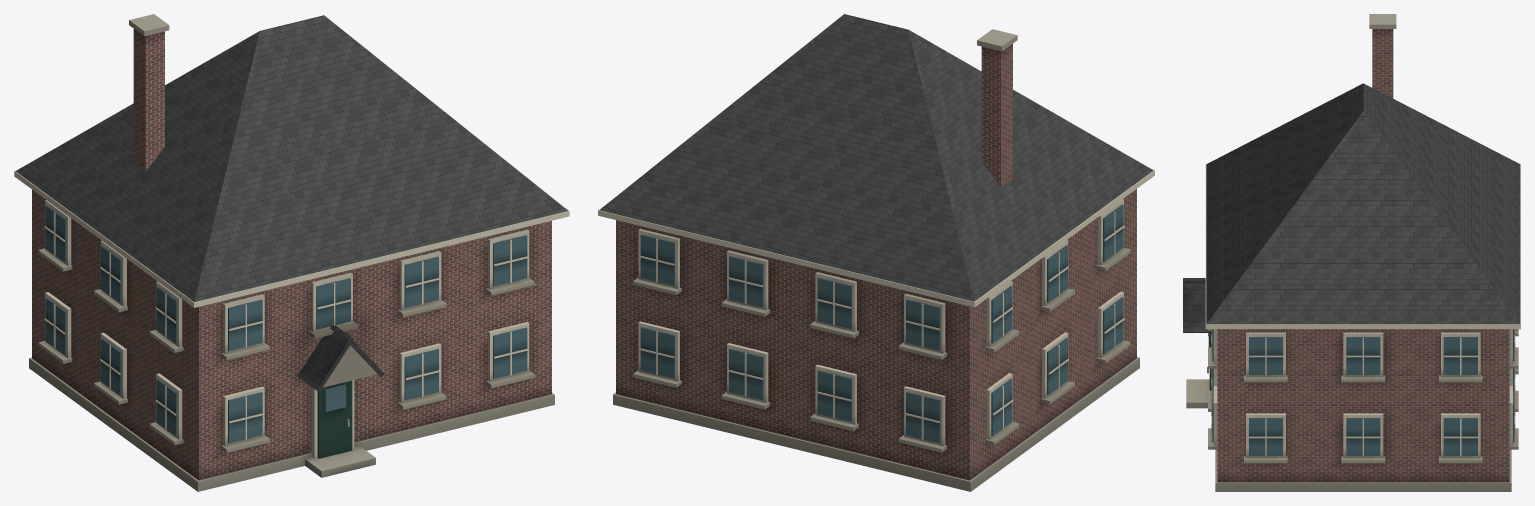
File: house-garden.glb
3 renders of one model, left to right at view 1: azimuth 30°, elevation 25°; view 2: azimuth 150°, elevation 25°; view 3: azimuth 270°, elevation 25°, orthographic. The views are drawn at different scales.
Visible parts, largest first — view 1: Closed hip roof, Masonry shell, Opaque glazing (×13), Foundation, Window surround (×7), Chimney, Eaves, Front door, Gable roof, Entry step, Entrance gable, Door surround (+1 smaller); view 2: Closed hip roof, Masonry shell, Opaque glazing (×14), Foundation, Window surround (×8), Chimney, Eaves, Chimney cap; view 3: Closed hip roof, Masonry shell, Opaque glazing (×6), Window surround (×6), Foundation, Eaves, Chimney, Gable roof, Entry step, Chimney cap.
Boxes of the visible parts, left/top/right/bottom form: Closed hip roof: left=15, top=15, right=568, bottom=302; Masonry shell: left=32, top=189, right=551, bottom=480; Opaque glazing (×13): left=45, top=205, right=527, bottom=443; Foundation: left=29, top=357, right=554, bottom=491; Window surround (×7): left=223, top=229, right=529, bottom=446; Chimney: left=133, top=29, right=164, bottom=171; Eaves: left=14, top=171, right=569, bottom=307; Front door: left=317, top=380, right=352, bottom=458; Gable roof: left=297, top=325, right=353, bottom=392; Entry step: left=305, top=446, right=375, bottom=477; Entrance gable: left=323, top=345, right=377, bottom=387; Door surround: left=311, top=380, right=354, bottom=458; Closed hip roof: left=599, top=14, right=1153, bottom=301; Masonry shell: left=616, top=189, right=1136, bottom=480; Opaque glazing (×14): left=640, top=204, right=1123, bottom=443; Foundation: left=613, top=357, right=1139, bottom=491; Window surround (×8): left=638, top=229, right=945, bottom=446; Chimney: left=981, top=44, right=1012, bottom=186; Eaves: left=598, top=170, right=1154, bottom=307; Chimney cap: left=977, top=29, right=1017, bottom=51; Closed hip roof: left=1206, top=83, right=1520, bottom=324; Masonry shell: left=1217, top=329, right=1509, bottom=482; Opaque glazing (×6): left=1249, top=337, right=1477, bottom=455; Window surround (×6): left=1246, top=332, right=1480, bottom=457; Foundation: left=1215, top=449, right=1511, bottom=491; Eaves: left=1205, top=164, right=1520, bottom=329; Chimney: left=1372, top=29, right=1393, bottom=98; Gable roof: left=1183, top=278, right=1211, bottom=332; Entry step: left=1186, top=379, right=1209, bottom=408; Chimney cap: left=1369, top=14, right=1396, bottom=28.
Size of the model in its own units: 11.7 by 11.55 by 10.4.
Materials: 6 (2 with a texture image).
